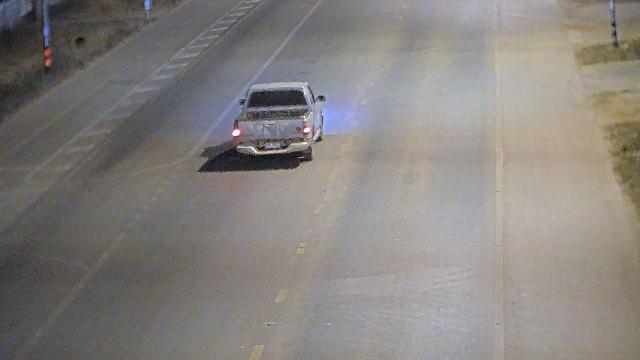pickup-truck: (230, 80, 326, 161)
